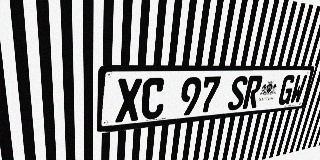7: (198, 76, 221, 114)
9: (179, 77, 203, 116)
C: (140, 78, 166, 120)
G: (277, 75, 296, 105)
R: (242, 75, 263, 109)
S: (227, 76, 249, 111)
W: (289, 74, 308, 104)
X: (115, 78, 142, 123)
